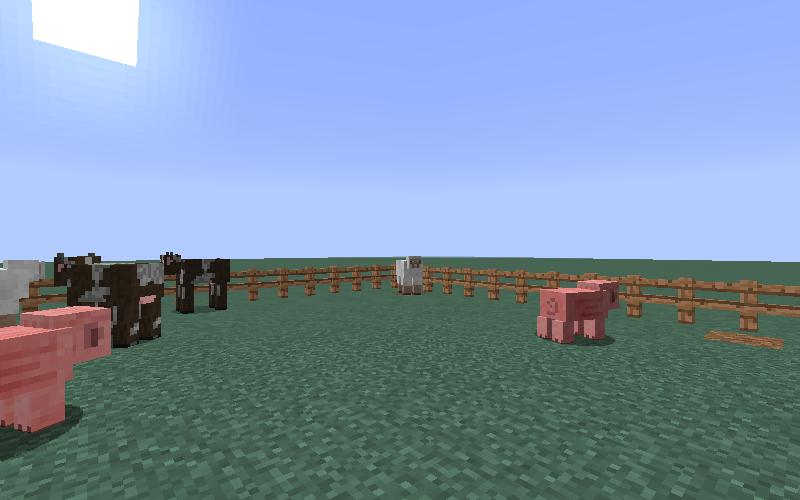cow: (51, 250, 168, 353), (160, 252, 230, 315)
pig: (530, 274, 627, 354)
sheep: (1, 257, 48, 313), (392, 252, 426, 297)
